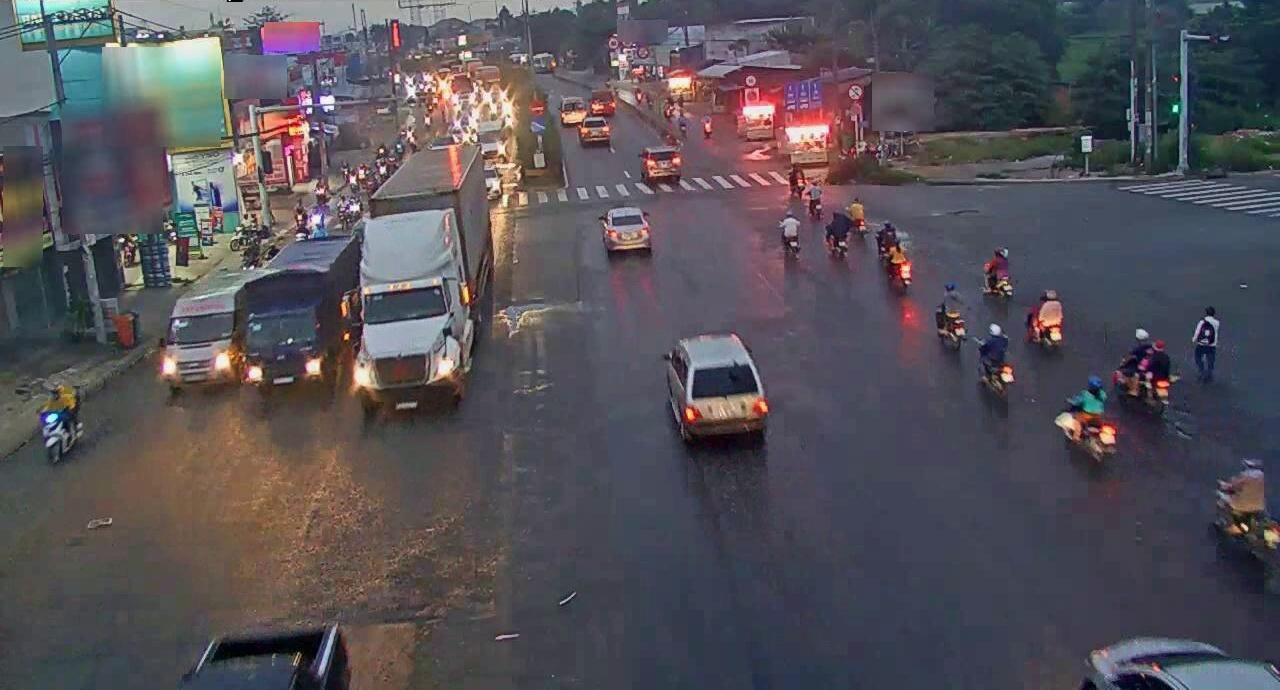xe container: (358, 137, 493, 416)
xe hoi: (658, 326, 771, 440), (595, 203, 652, 258)
xe may: (1212, 453, 1280, 563), (1112, 320, 1172, 420), (1055, 375, 1116, 462), (31, 381, 85, 460), (974, 319, 1018, 398), (931, 278, 972, 352), (1023, 287, 1069, 352), (976, 242, 1016, 298), (774, 207, 803, 262)
xe tai: (246, 233, 354, 398)
xe van: (162, 260, 248, 388)
